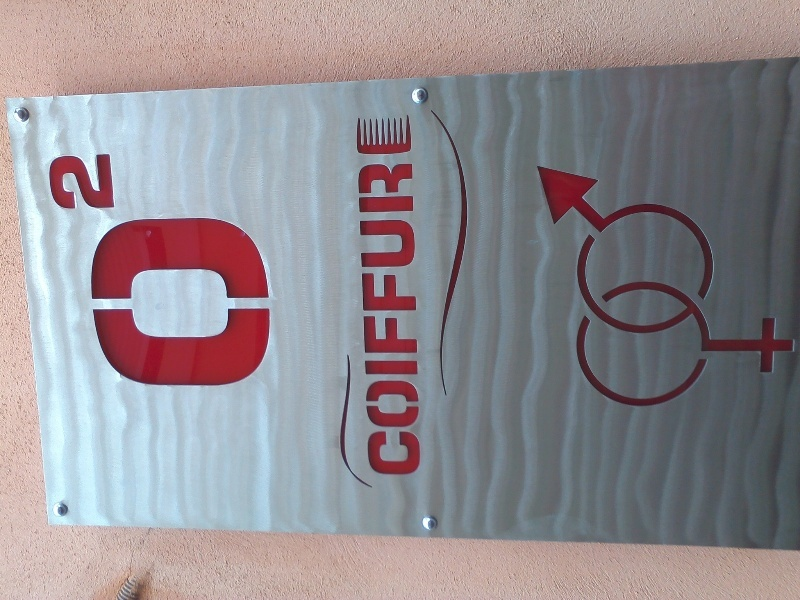text: (369, 113, 384, 478), (385, 113, 400, 478), (401, 113, 416, 478), (355, 113, 368, 478), (257, 217, 273, 388), (97, 217, 112, 388), (113, 217, 128, 388), (129, 217, 144, 388), (145, 217, 160, 388), (161, 217, 176, 388), (177, 217, 192, 388), (193, 217, 208, 388), (209, 217, 224, 388), (225, 217, 240, 388), (241, 217, 256, 388), (417, 113, 423, 478), (88, 217, 96, 388), (49, 151, 64, 211), (65, 151, 80, 211), (81, 151, 96, 211), (97, 151, 112, 211), (113, 151, 117, 211)
